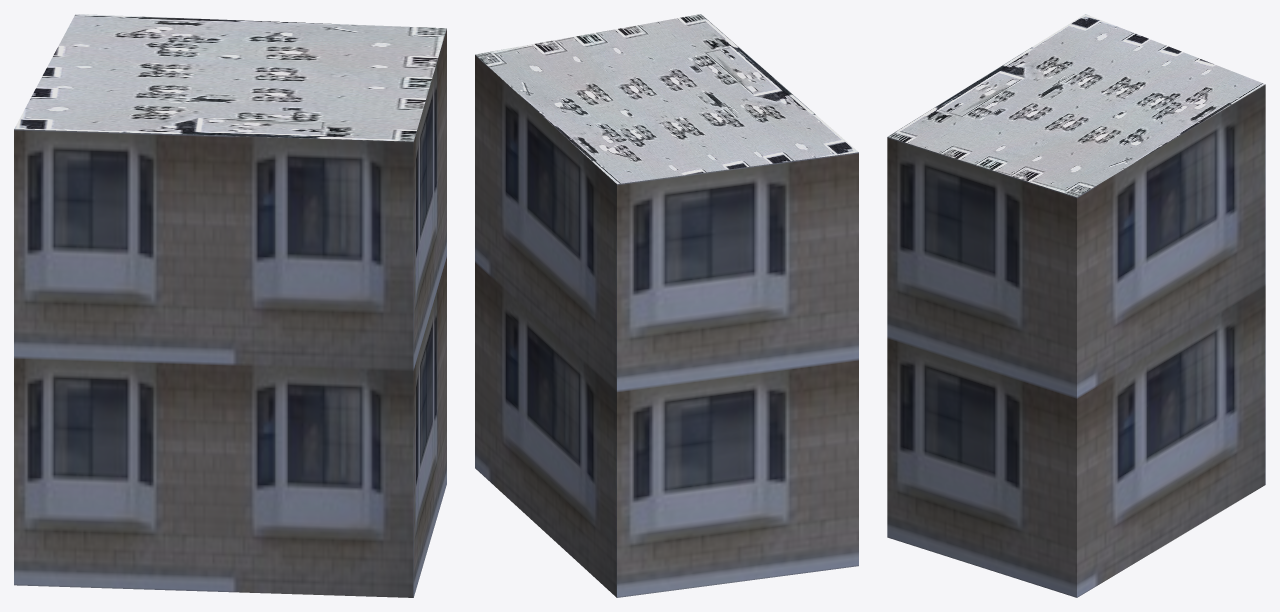
Rendered from ResTex__2415.fbx.
3 renders of one model, left to right at view 1: azimuth 30°, elevation 25°; view 2: azimuth 150°, elevation 25°; view 3: azimuth 270°, elevation 25°, orthographic. The views are drawn at different scales.
Parts seen in each view (by area): view 1: CityEngineMaterial_3_m, CityEngineMaterial_2_m; view 2: CityEngineMaterial_3_m, CityEngineMaterial_2_m; view 3: CityEngineMaterial_3_m, CityEngineMaterial_2_m.
Part boxes in pixels (box(x1,y1,x2,y2)): CityEngineMaterial_3_m: box(14, 28, 446, 597); CityEngineMaterial_2_m: box(14, 14, 446, 141); CityEngineMaterial_3_m: box(475, 55, 858, 597); CityEngineMaterial_2_m: box(475, 14, 858, 183); CityEngineMaterial_3_m: box(887, 84, 1265, 597); CityEngineMaterial_2_m: box(887, 14, 1265, 197).
Bounding box in the file's own units: 5.89 × 6 × 5.14.
Materials: 2 (2 with a texture image).
